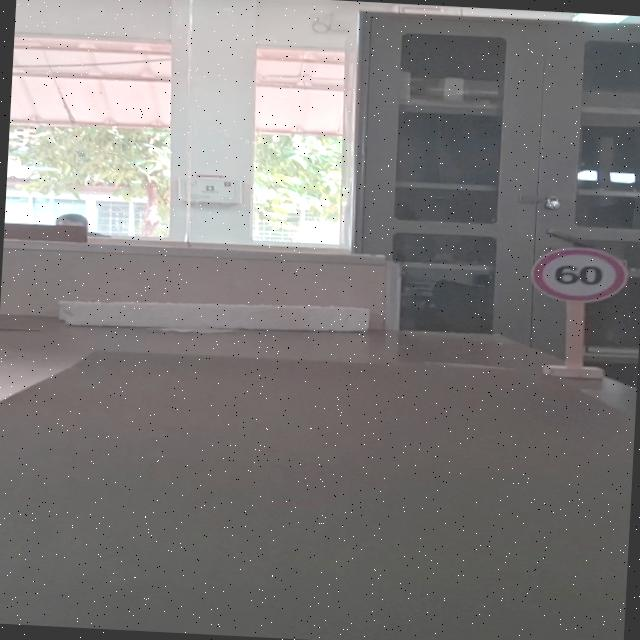Speed60: (524, 244, 632, 306)
